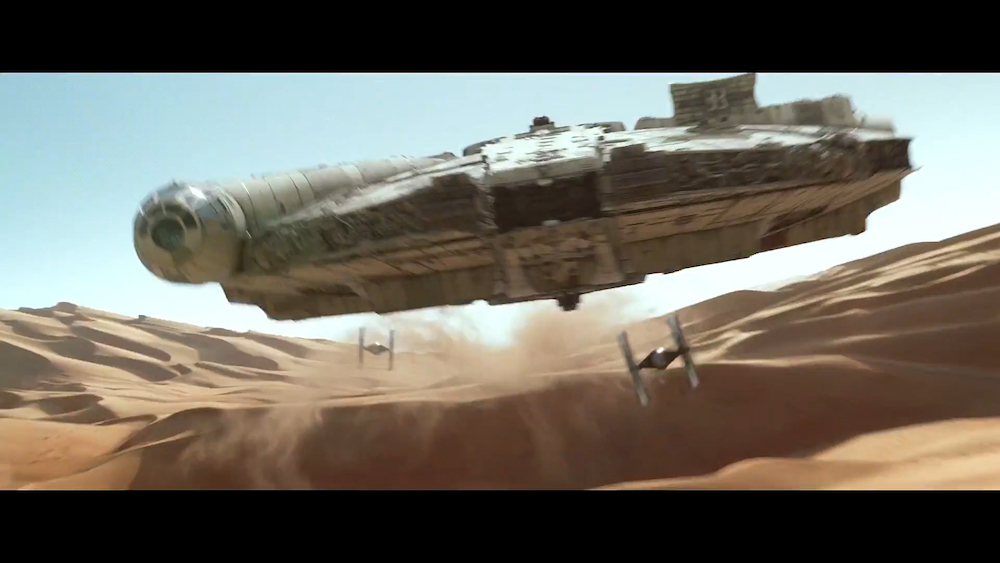Millennium Falcon: (134, 87, 915, 323)
Tie Fighter: (617, 313, 702, 411), (359, 329, 396, 373)
